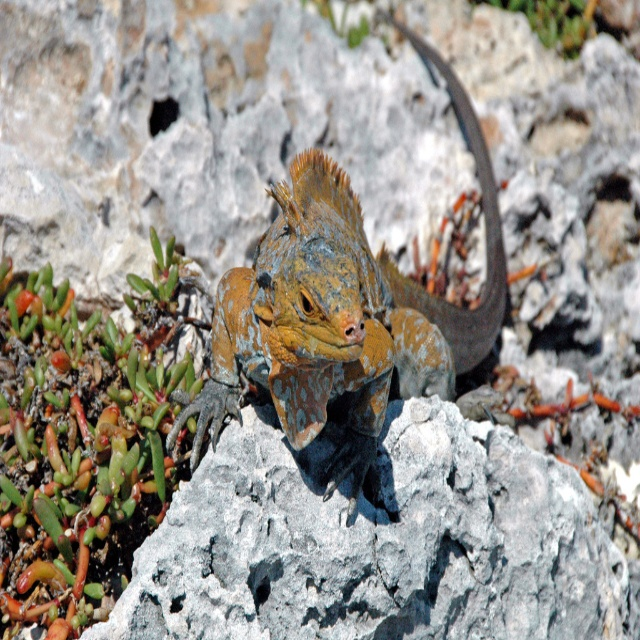Lizard: (186, 42, 508, 578)
